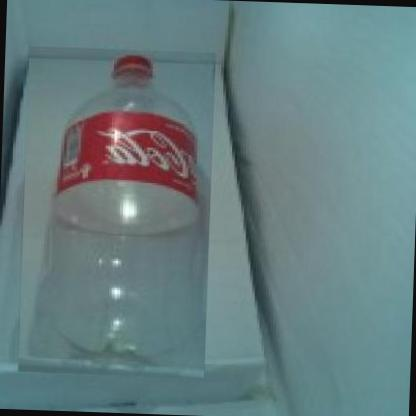plastic_bottles: (19, 46, 216, 378)
